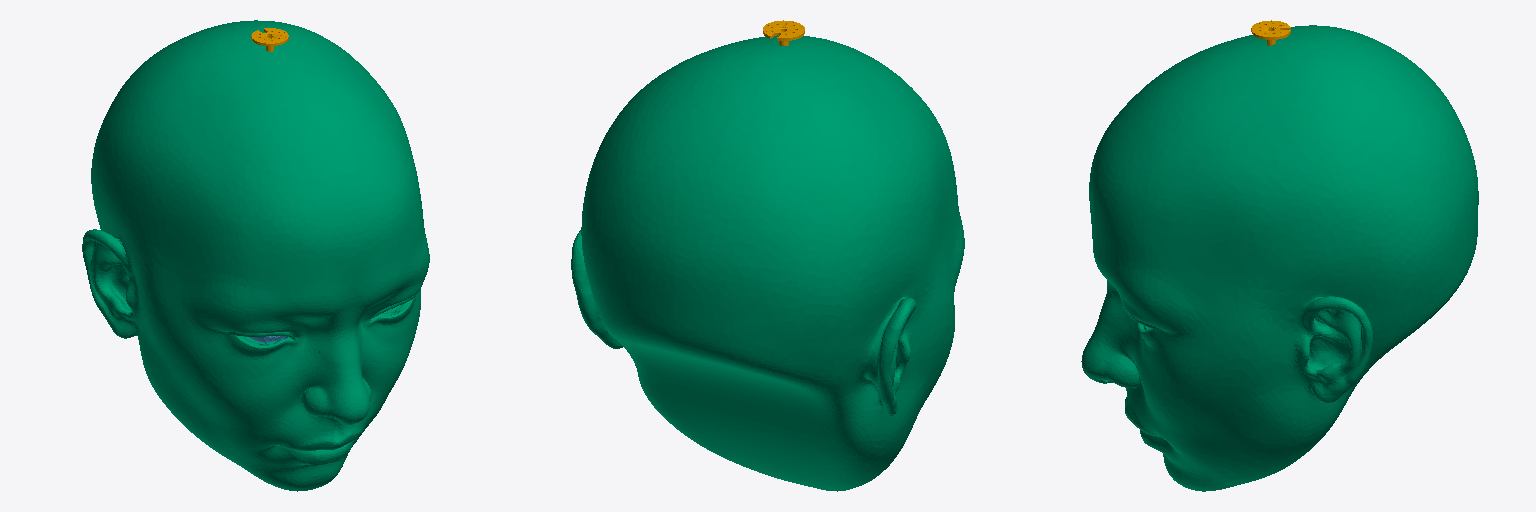
robot.urdf — floating_head_1800:
<?xml version="1.0"?>
<robot name="floating_head_1800">
  <!-- generated: mass from CAD volumes + face 245 kg (180 + sphere 65) / eyes 20 kg shells; eyeballs on U-joints driven by 4-bar linkages (mimic = slope at 0); frames = Blender rig frame (z-up, m) -->
  <link name="base">
    <inertial><origin xyz="0.00192465 0.00416315 0.553989" rpy="0 0 0"/><mass value="26.2499"/>
      <inertia ixx="2.05697" ixy="0.000150812" ixz="-0.000487465" iyy="2.09189" iyz="0.0266854" izz="0.202685"/></inertial>
    <visual><origin xyz="-0 -0 -0" rpy="0 0 0"/><geometry><mesh filename="meshes/base_0.stl"/></geometry></visual>
  </link>
  <link name="yaw">
    <inertial><origin xyz="0.00045566 0.00656782 -0.127792" rpy="0 0 0"/><mass value="20.7242"/>
      <inertia ixx="0.381776" ixy="-5.87744e-05" ixz="-0.00118726" iyy="0.637848" iyz="0.031012" izz="0.344314"/></inertial>
    <visual><origin xyz="-0 -0 -0.3103" rpy="0 0 0"/><geometry><mesh filename="meshes/yaw_0.stl"/></geometry></visual>
  </link>
  <link name="pitch">
    <inertial><origin xyz="-0.000348867 0.00873204 0.0546667" rpy="0 0 0"/><mass value="325.9920"/>
      <inertia ixx="108.197" ixy="0.0307793" ixz="0.0103781" iyy="100.521" iyz="-12.039" izz="82.7933"/></inertial>
    <visual><origin xyz="-0 -0 -0.1688" rpy="0 0 0"/><geometry><mesh filename="meshes/face.stl"/></geometry></visual>
  </link>
  <link name="eye_pitch">
    <inertial><origin xyz="1.44404e-17 0.000565318 -0.00683593" rpy="0 0 0"/><mass value="0.4805"/>
      <inertia ixx="0.000144385" ixy="6.46589e-10" ixz="5.35339e-11" iyy="0.013183" iyz="8.57782e-06" izz="0.0130801"/></inertial>
    <visual><origin xyz="-0 0.355 -0.2838" rpy="0 0 0"/><geometry><mesh filename="meshes/eye_pitch_0.stl"/></geometry></visual>
  </link>
  <link name="eye_yaw_l">
    <inertial><origin xyz="0.0561262 -0.000496593 0.0105925" rpy="0 0 0"/><mass value="0.0836"/>
      <inertia ixx="1.20662e-05" ixy="-1.42602e-05" ixz="2.18407e-06" iyy="0.000118294" iyz="2.86478e-07" izz="0.000120132"/></inertial>
    <visual><origin xyz="-0.2625 0.3241 -0.1585" rpy="0 0 0"/><geometry><mesh filename="meshes/eye_yaw_l_0.stl"/></geometry></visual>
  </link>
  <link name="eye_yaw_r">
    <inertial><origin xyz="-0.0561262 -0.000496353 0.0105927" rpy="0 0 0"/><mass value="0.0836"/>
      <inertia ixx="1.20659e-05" ixy="1.42588e-05" ixz="-2.18503e-06" iyy="0.000118294" iyz="2.86616e-07" izz="0.000120132"/></inertial>
    <visual><origin xyz="0.2625 0.3241 -0.1585" rpy="0 0 0"/><geometry><mesh filename="meshes/eye_yaw_r_0.stl"/></geometry></visual>
  </link>
  <link name="eyeball_pitch_l">
    <inertial><origin xyz="0 0 0" rpy="0 0 0"/><mass value="0.0100"/>
      <inertia ixx="1e-06" ixy="0" ixz="0" iyy="1e-06" iyz="0" izz="1e-06"/></inertial>
  </link>
  <link name="eyeball_pitch_r">
    <inertial><origin xyz="0 0 0" rpy="0 0 0"/><mass value="0.0100"/>
      <inertia ixx="1e-06" ixy="0" ixz="0" iyy="1e-06" iyz="0" izz="1e-06"/></inertial>
  </link>
  <link name="eyeball_l">
    <inertial><origin xyz="0.00681306 -0.0592398 -0.0370949" rpy="0 0 0"/><mass value="20.1981"/>
      <inertia ixx="0.11114" ixy="-0.00952797" ixz="-0.00631169" iyy="0.210295" iyz="0.0250332" izz="0.188125"/></inertial>
    <visual><origin xyz="-0.2771 0.381 -0.1572" rpy="0 0 0"/><geometry><mesh filename="meshes/eyeball_l.stl"/></geometry></visual>
  </link>
  <link name="eyeball_r">
    <inertial><origin xyz="-0.00681256 -0.0592398 -0.037095" rpy="0 0 0"/><mass value="20.1981"/>
      <inertia ixx="0.11114" ixy="0.00951965" ixz="0.00632303" iyy="0.210296" iyz="0.0250327" izz="0.188124"/></inertial>
    <visual><origin xyz="0.2771 0.381 -0.1572" rpy="0 0 0"/><geometry><mesh filename="meshes/eyeball_r.stl"/></geometry></visual>
  </link>
  <joint name="neck_yaw" type="revolute">
    <parent link="base"/><child link="yaw"/>
    <origin xyz="0 0 0.3103" rpy="0 0 0"/><axis xyz="0 0 1"/>
    <limit lower="-0.26180" upper="0.26180" effort="644.4" velocity="0.3840"/>
  </joint>
  <joint name="neck_pitch" type="revolute">
    <parent link="yaw"/><child link="pitch"/>
    <origin xyz="0 0 -0.1415" rpy="0 0 0"/><axis xyz="-1 0 0"/>
    <limit lower="-0.17453" upper="0.22689" effort="966.6" velocity="0.2560"/>
  </joint>
  <joint name="eye_pitch" type="revolute">
    <parent link="pitch"/><child link="eye_pitch"/>
    <origin xyz="0 -0.355 0.115" rpy="0 0 0"/><axis xyz="1 0 0"/>
    <limit lower="-0.17453" upper="0.17453" effort="42.8" velocity="0.7679"/>
  </joint>
  <joint name="eye_yaw_l" type="revolute">
    <parent link="pitch"/><child link="eye_yaw_l"/>
    <origin xyz="0.2625 -0.3241 -0.0103" rpy="0 0 0"/><axis xyz="0 -0.559215 0.829023"/>
    <limit lower="-0.20944" upper="0.20944" effort="15.1" velocity="1.0971"/>
  </joint>
  <joint name="eye_yaw_r" type="revolute">
    <parent link="pitch"/><child link="eye_yaw_r"/>
    <origin xyz="-0.2625 -0.3241 -0.0103" rpy="0 0 0"/><axis xyz="0 -0.559215 0.829023"/>
    <limit lower="-0.20944" upper="0.20944" effort="15.1" velocity="1.0971"/>
  </joint>
  <joint name="eyeball_pitch_l" type="revolute">
    <parent link="pitch"/><child link="eyeball_pitch_l"/>
    <origin xyz="0.2771 -0.381 -0.0116" rpy="0 0 0"/><axis xyz="-0.995194 -0.0810158 -0.0550107"/>
    <limit lower="-0.5" upper="0.5" effort="0" velocity="10"/><mimic joint="eye_pitch" multiplier="0.5600" offset="0"/>
  </joint>
  <joint name="eyeball_yaw_l" type="revolute">
    <parent link="eyeball_pitch_l"/><child link="eyeball_l"/>
    <origin xyz="0 0 0" rpy="0 0 0"/><axis xyz="0 -0.559215 0.829023"/>
    <limit lower="-0.5" upper="0.5" effort="0" velocity="10"/><mimic joint="eye_yaw_l" multiplier="0.9554" offset="0"/>
  </joint>
  <joint name="eyeball_pitch_r" type="revolute">
    <parent link="pitch"/><child link="eyeball_pitch_r"/>
    <origin xyz="-0.2771 -0.381 -0.0116" rpy="0 0 0"/><axis xyz="-0.995194 0.0810158 0.0550107"/>
    <limit lower="-0.5" upper="0.5" effort="0" velocity="10"/><mimic joint="eye_pitch" multiplier="0.5600" offset="0"/>
  </joint>
  <joint name="eyeball_yaw_r" type="revolute">
    <parent link="eyeball_pitch_r"/><child link="eyeball_r"/>
    <origin xyz="0 0 0" rpy="0 0 0"/><axis xyz="0 -0.559215 0.829023"/>
    <limit lower="-0.5" upper="0.5" effort="0" velocity="10"/><mimic joint="eye_yaw_r" multiplier="0.9554" offset="0"/>
  </joint>
</robot>

--- Render facts (derived) ---
The picture shows the robot from 3 angles, left to right: view 1: azimuth 30°, elevation 25°; view 2: azimuth 150°, elevation 25°; view 3: azimuth 270°, elevation 25°; orthographic projection.
Robot: floating_head_1800 — 10 links, 9 joints (9 revolute); root link base; default pose: all joints at 0.
Visible links, largest first — view 1: pitch, base; view 2: pitch, base; view 3: pitch, base.
Link boxes in pixels (x1,y1,x2,y2): pitch: [82, 20, 429, 491]; base: [251, 28, 288, 51]; pitch: [571, 35, 964, 491]; base: [763, 20, 804, 45]; pitch: [1081, 25, 1478, 491]; base: [1251, 20, 1290, 45].
Bounding box of the posed robot: 1.35 × 1.49 × 1.88 m (x, y, z).
Meshes: 8 distinct files referenced, 5 mesh visuals loaded (5 binary STL); not drawn: 3 (reference not matched to a file when rendering).
